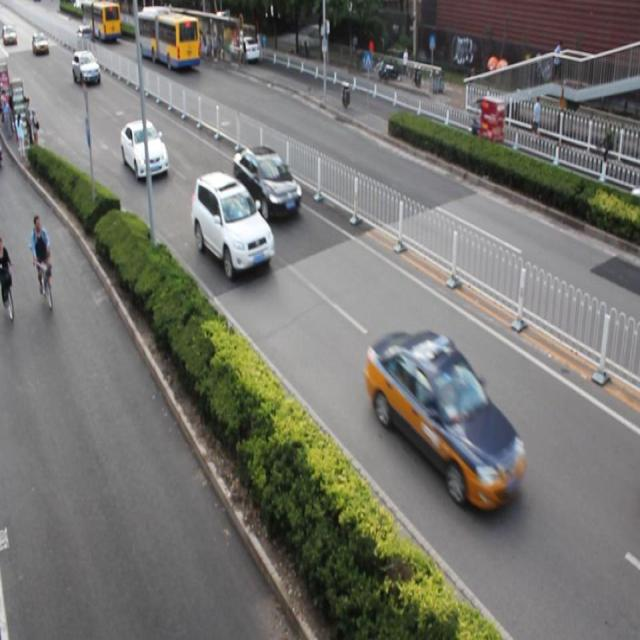car: (366, 328, 524, 511), (192, 172, 274, 282), (230, 144, 301, 222), (122, 120, 169, 181), (73, 49, 99, 86), (230, 34, 259, 64)
van: (136, 6, 199, 72)
